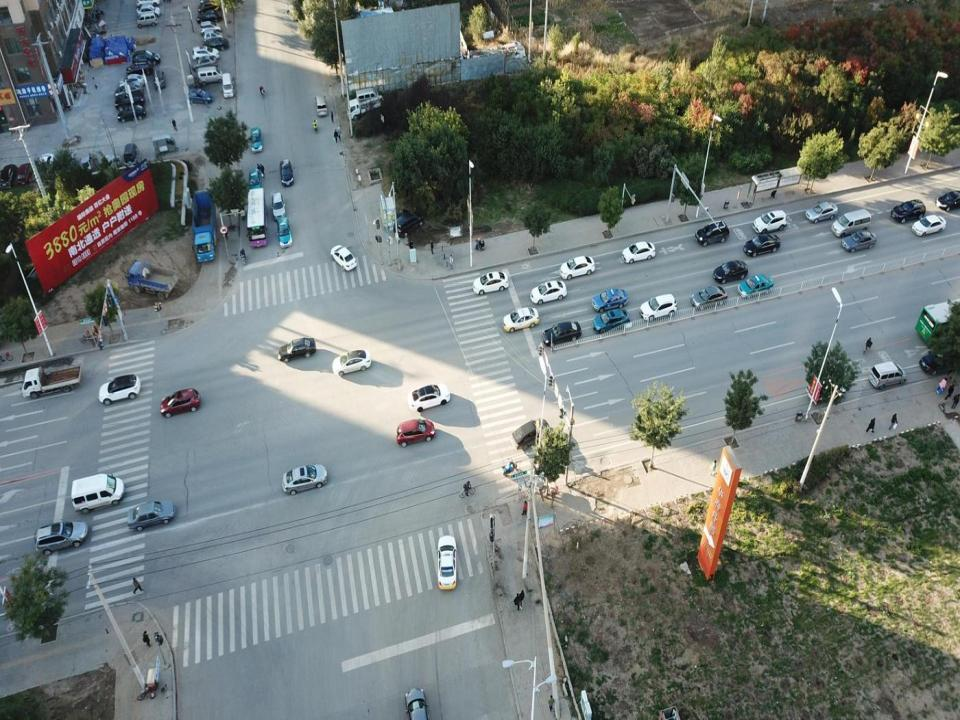bus: (915, 296, 960, 347), (247, 187, 268, 246)
car: (34, 520, 88, 554), (280, 462, 330, 494), (127, 500, 175, 532), (98, 372, 140, 405), (436, 536, 460, 592), (511, 417, 549, 452), (160, 390, 201, 419), (396, 418, 434, 448), (410, 385, 450, 413), (333, 348, 371, 377), (528, 280, 569, 306), (277, 333, 315, 361), (543, 321, 582, 348), (640, 295, 677, 323), (559, 253, 594, 282), (591, 309, 631, 334), (744, 233, 782, 259), (472, 270, 509, 296), (920, 352, 960, 376), (690, 285, 727, 310), (736, 275, 773, 300), (696, 222, 729, 250), (753, 209, 786, 236), (620, 241, 657, 265), (713, 261, 749, 285), (501, 308, 538, 331), (593, 289, 628, 313), (403, 687, 429, 719), (806, 200, 839, 225), (841, 230, 878, 252), (394, 211, 423, 239), (911, 214, 946, 236), (891, 200, 926, 222), (330, 245, 356, 271), (114, 90, 146, 108), (936, 190, 960, 213), (114, 81, 142, 100), (125, 60, 152, 79), (132, 50, 159, 68), (117, 106, 146, 122), (186, 89, 213, 106), (277, 219, 292, 248), (271, 192, 286, 221), (0, 163, 16, 190), (118, 74, 144, 90), (195, 11, 223, 25), (279, 159, 294, 185), (190, 58, 217, 72), (39, 153, 53, 180), (247, 170, 262, 195), (189, 46, 220, 58), (199, 20, 222, 35), (204, 36, 228, 50), (16, 164, 32, 185), (250, 126, 262, 153), (202, 30, 223, 44), (198, 2, 222, 14), (136, 6, 160, 18), (79, 156, 92, 178), (154, 70, 166, 89)
truck: (128, 258, 179, 302), (20, 366, 83, 400), (192, 189, 216, 261), (346, 94, 384, 122)
van: (71, 474, 124, 516), (832, 209, 872, 237), (869, 361, 906, 388), (152, 136, 179, 155), (355, 87, 379, 106), (197, 66, 222, 84), (221, 72, 234, 98), (136, 11, 158, 26), (123, 144, 138, 166), (314, 94, 327, 117)
